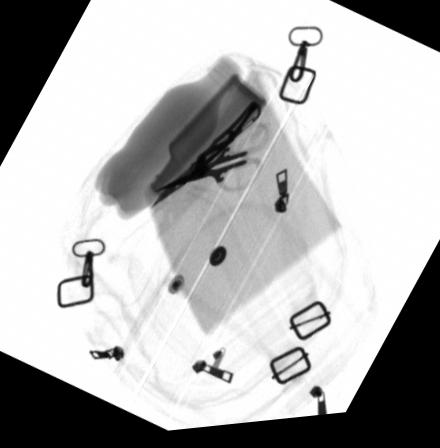Knife: (150, 105, 261, 211)
Scissors: (151, 125, 272, 198)
